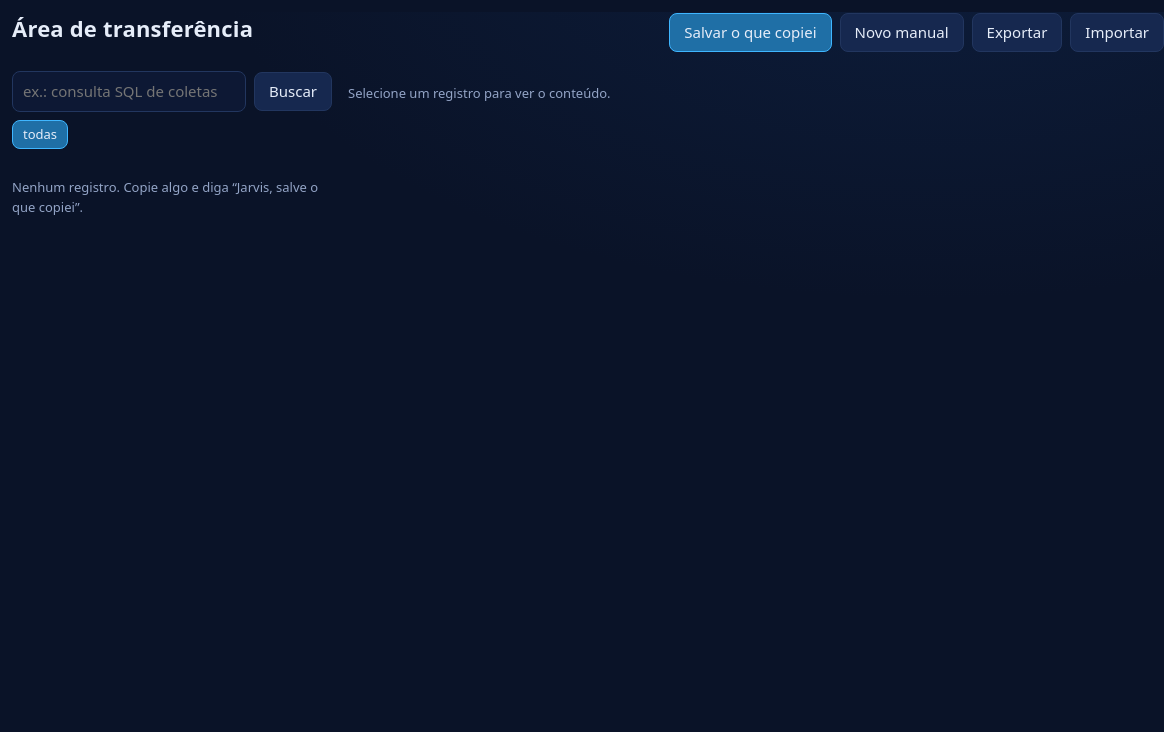
Test case: Clipboard › informa quando o agente local está desconectado
Step 1. Click the button "Salvar o que copiei" → (750, 33), box [669, 13, 832, 52]
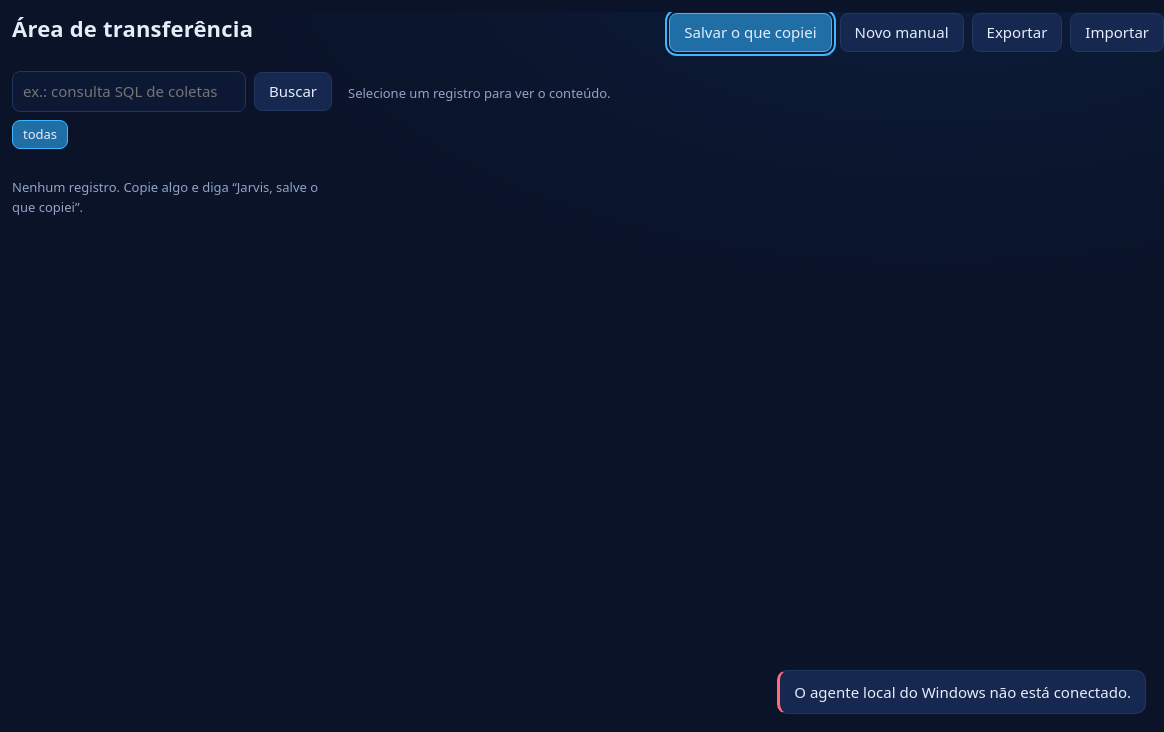
Result: the text "O agente local do Windows não está conectado." is shown at [777, 670, 1146, 714]
